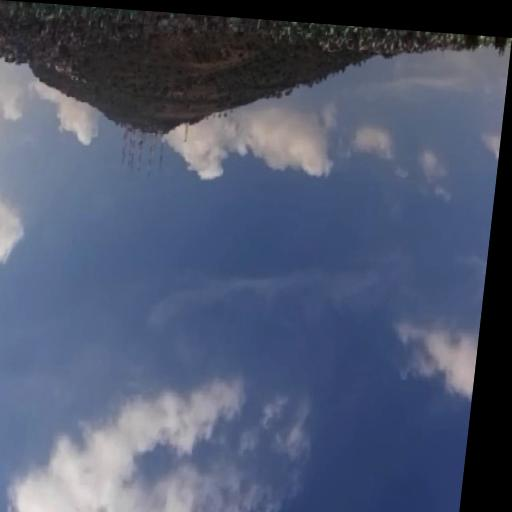drones: (135, 137, 145, 148)
